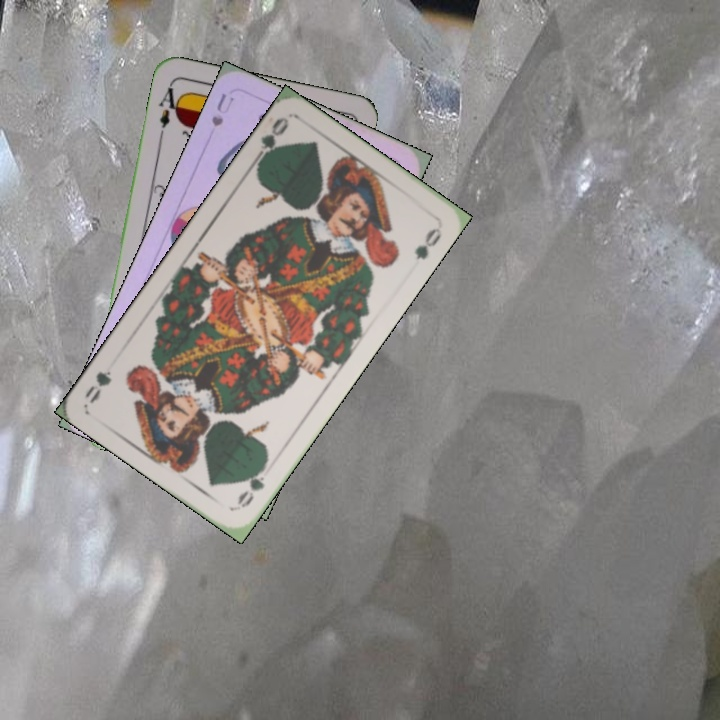EA: (155, 80, 184, 139)
GO: (248, 113, 292, 169), (233, 457, 270, 511)
SU: (207, 89, 237, 130)
